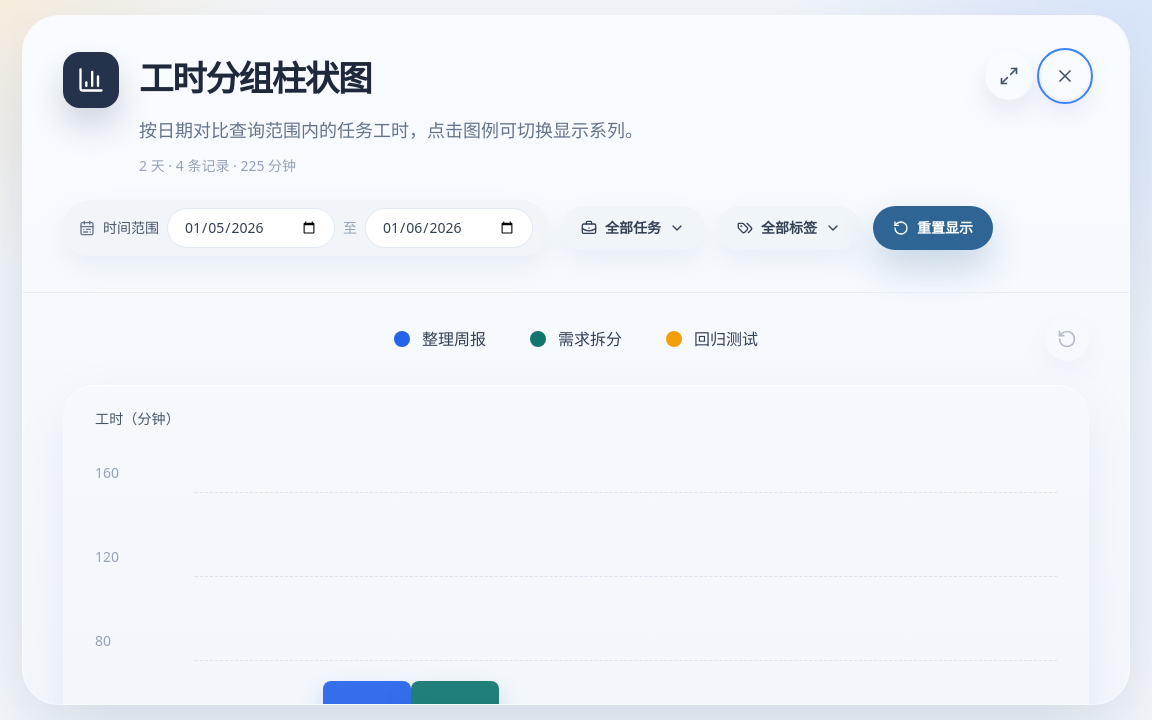
Test case: WorkLogTimeChartDialog › 展示单画布分组柱状图，图例可切换系列，并在悬浮时显示对应任务工时
Expected: the heading "工时分组柱状图" is shown, [139,54,371,101]
Expected: the element named "工时分组柱状图画布" is shown, [63,385,1089,704]
Click the button with aria-label "切换图例 需求拆分" at x=576, y=339, box [518,319,634,359]
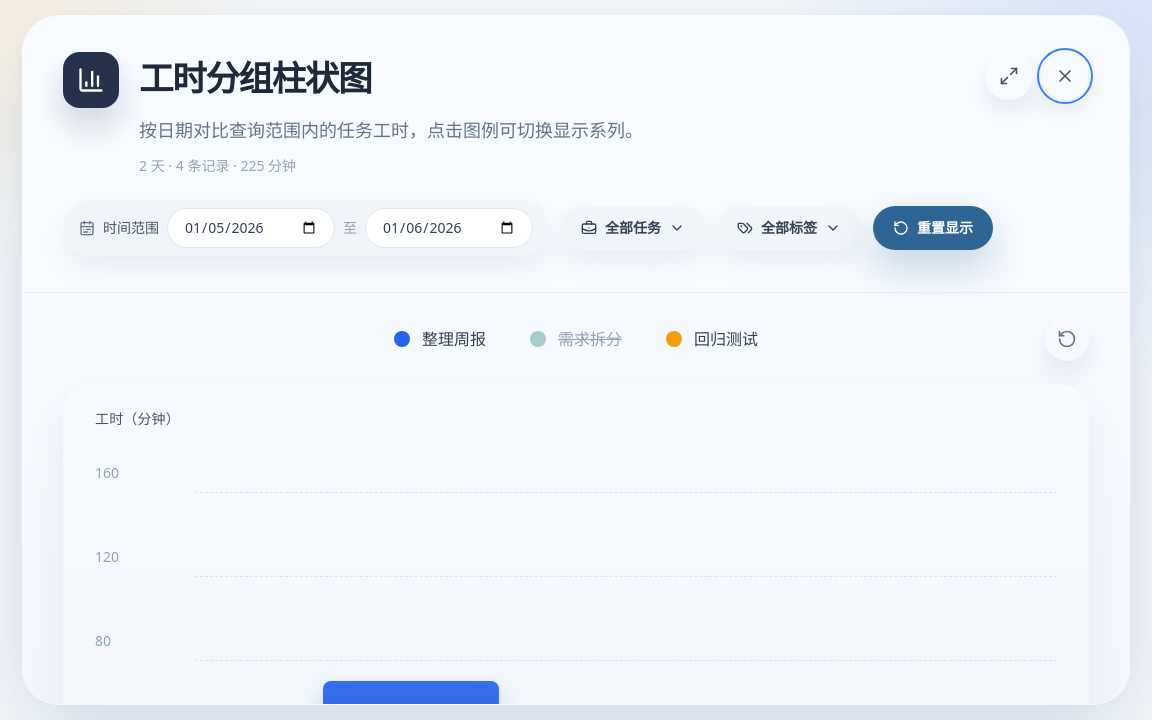
Click the button with aria-label "切换图例 需求拆分" at x=576, y=339, box [518,319,634,359]
(page scrolled)
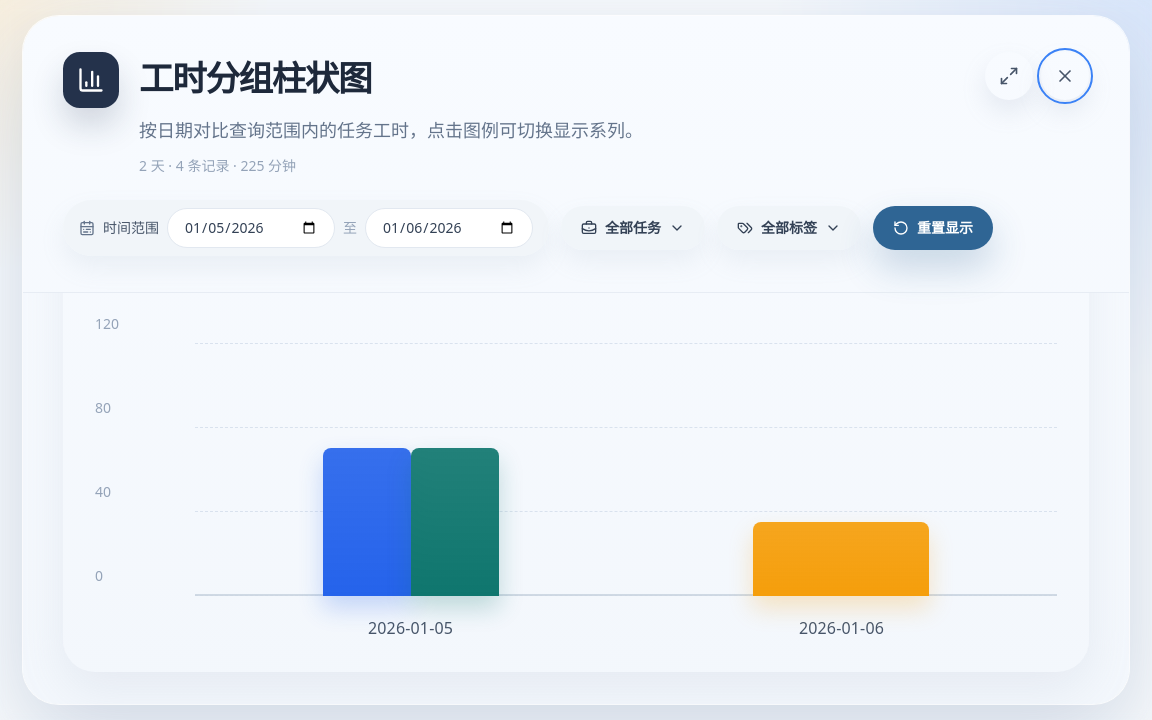
Now the button named "工时柱 2026-01-05 需求拆分 90 分钟" is shown
Hover over the button named "工时柱 2026-01-05 需求拆分 90 分钟" at x=454, y=522, box [410,448,498,596]
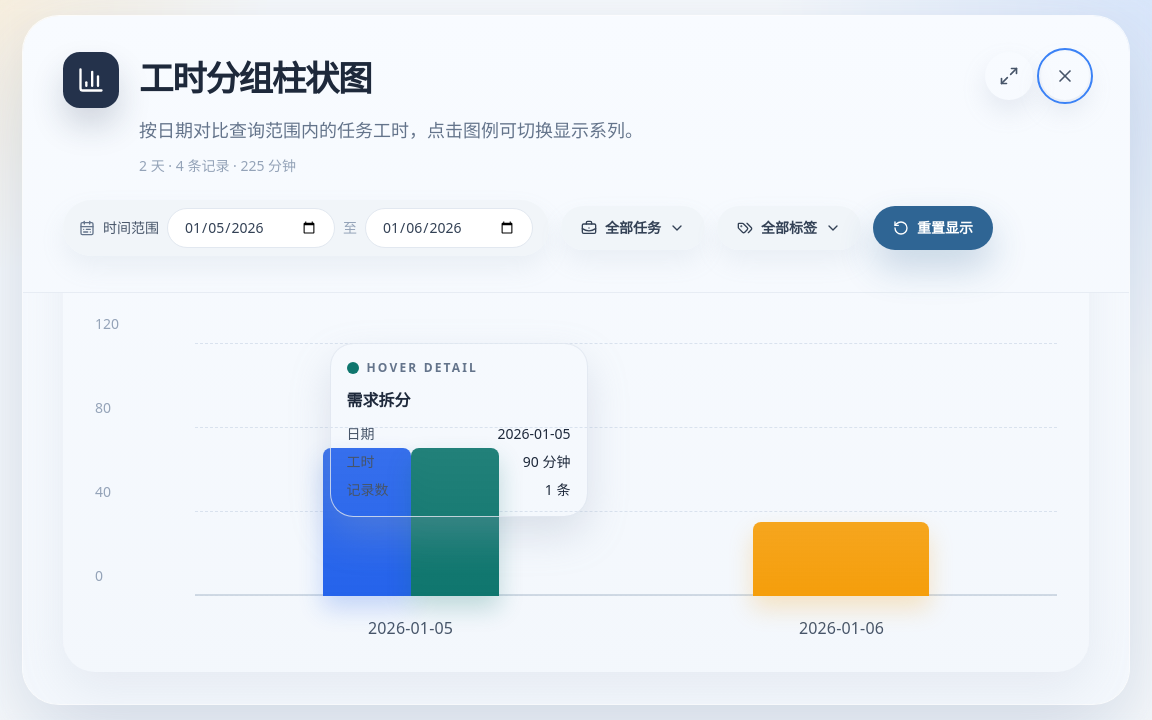
Now the text "需求拆分" is shown, box [346,389,410,411]
Now the text "90 分钟" is shown, box [523,452,570,472]
Now the text "2026-01-05" below "需求拆分" is shown, box [497,424,570,443]
